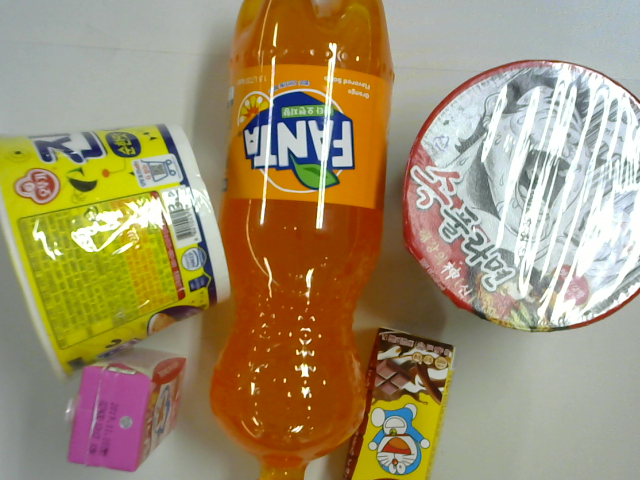Choco_E_Mong: (350, 318, 450, 480)
Hejangpul: (406, 69, 640, 326)
Hwanta_Orange_1.5L: (225, 1, 409, 463)
Jinlamyeon_Mild_Taste_Large_Cup: (1, 119, 230, 353)
Strawberry_E_Mong: (45, 355, 201, 460)
